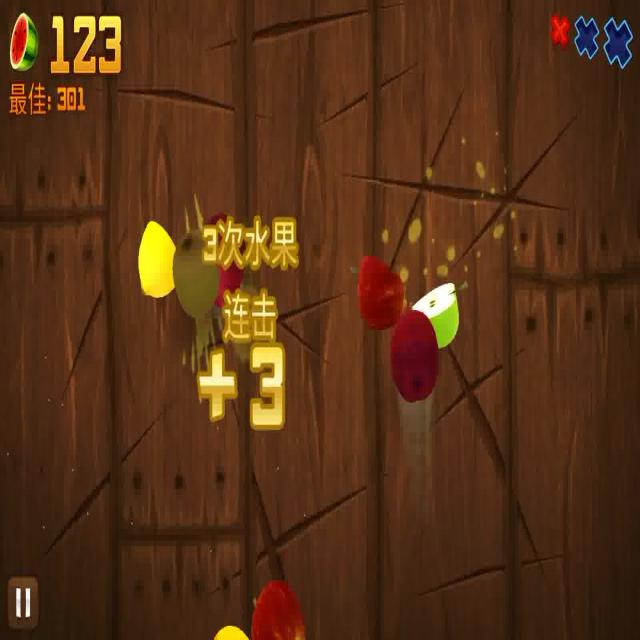fruit: (392, 308, 441, 397), (354, 251, 409, 325), (203, 208, 244, 305), (174, 231, 218, 317), (245, 578, 304, 640), (136, 214, 176, 299), (414, 281, 460, 350)
